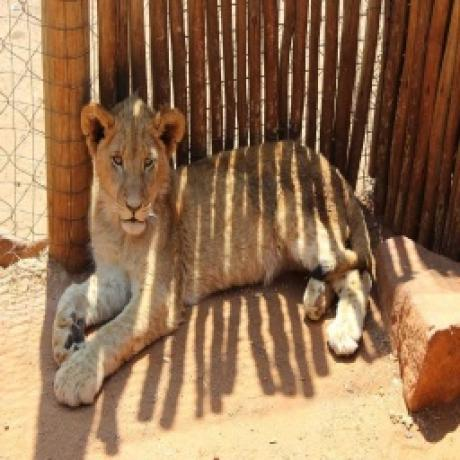Lion: (48, 87, 381, 411)
